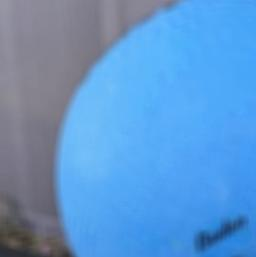algae: (51, 0, 256, 257)
